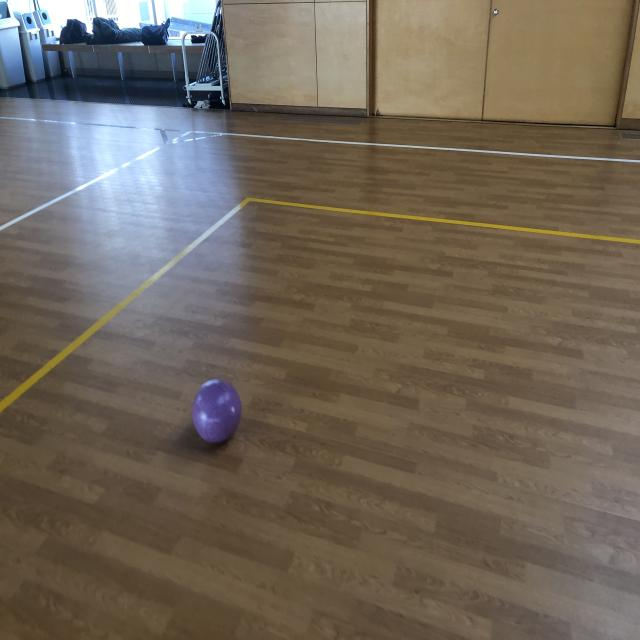purple_ball: (192, 379, 243, 446)
